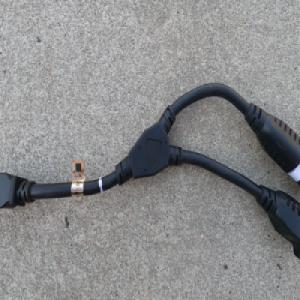Wire: (0, 81, 300, 260)
